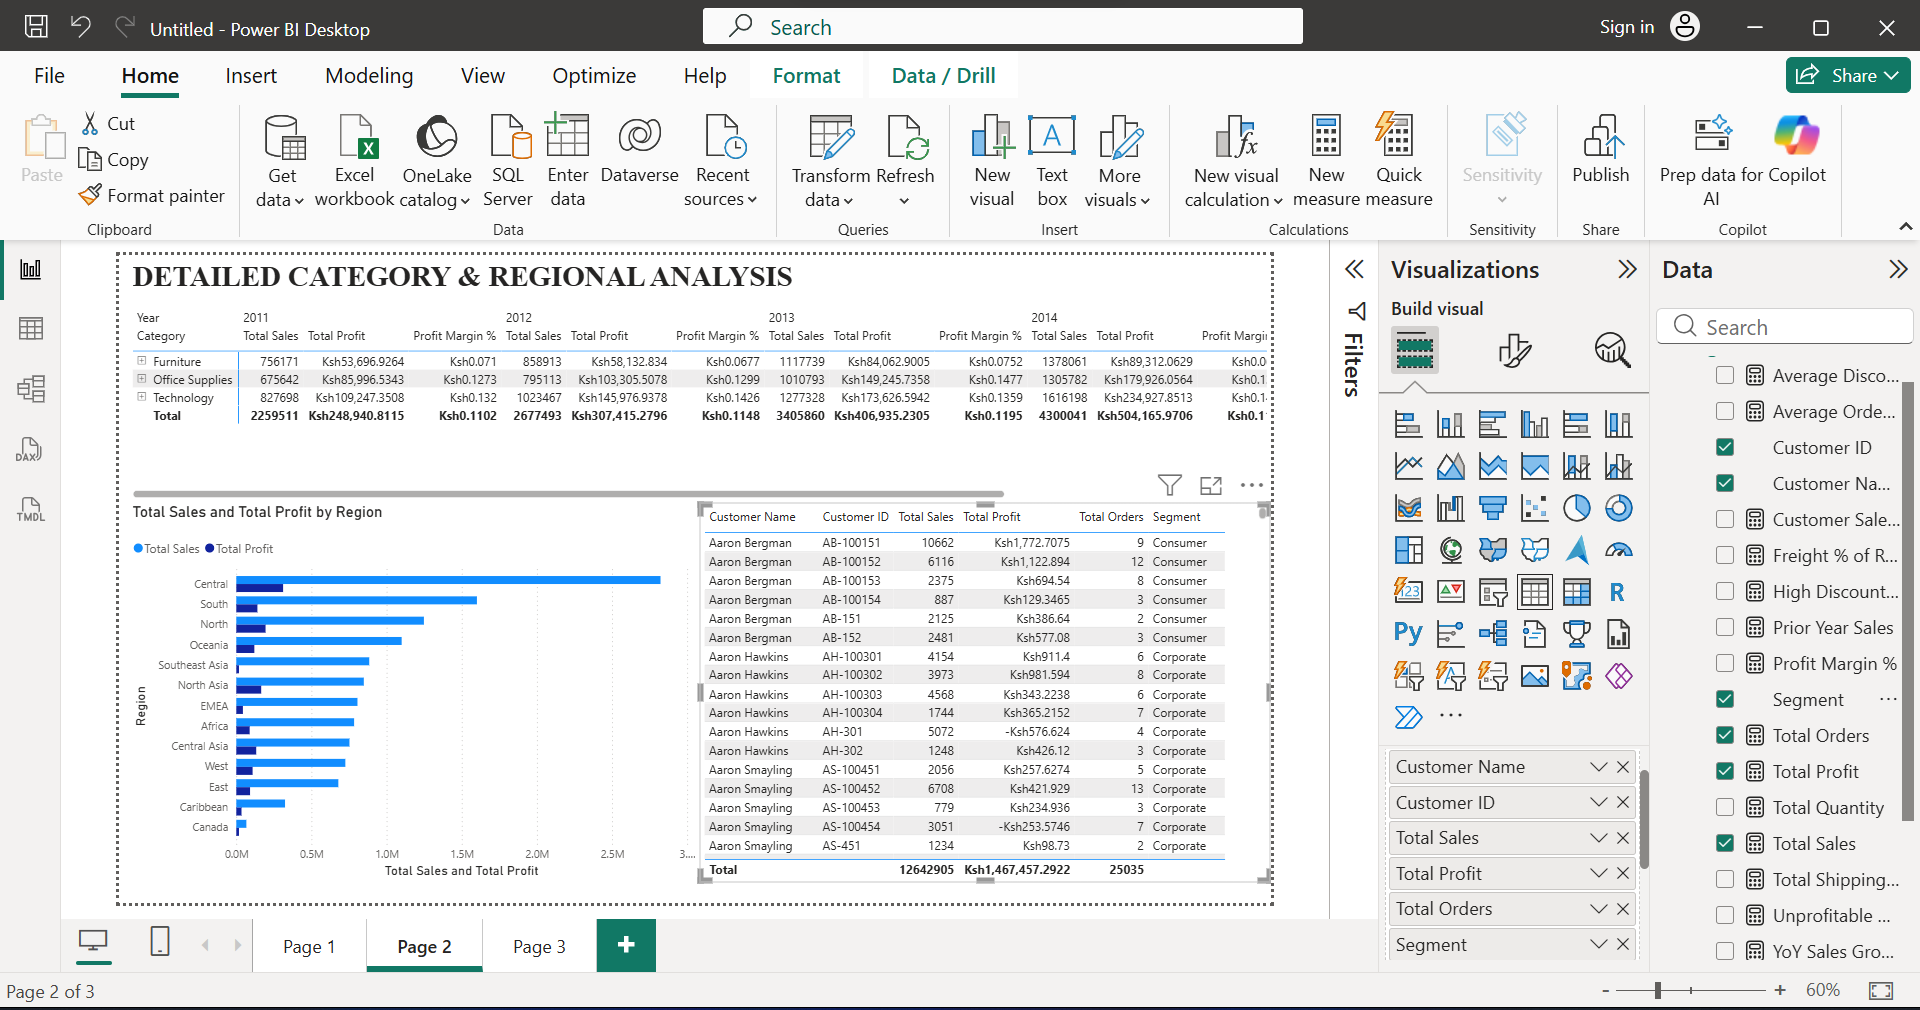

This screenshot's page, from the dashboard's own definition file:
{"tool":"powerbi","page":{"name":"Page 2","canvas":[1280,720],"ordinal":1},"visuals":[{"type":"textbox","box":[10,0,1270,53.3],"z":0},{"type":"pivotTable","fields":{"Rows":["DimProduct.Category","DimProduct.Sub Category"],"Columns":["DimDate.Year"],"Values":["DimCustomer.Total Sales","DimCustomer.Total Profit","DimCustomer.Profit Margin %"]},"box":[10,53.3,1270,221.7],"z":1},{"type":"clusteredBarChart","fields":{"Category":["DimLocation.Region"],"Y":["DimCustomer.Total Sales","DimCustomer.Total Profit"]},"box":[10,275,635,421.7],"z":2},{"type":"tableEx","fields":{"Values":["DimCustomer.Customer Name","DimCustomer.Customer ID","DimCustomer.Total Sales","DimCustomer.Total Profit","DimCustomer.Total Orders","DimCustomer.Segment"]},"box":[645,275,635,421.7],"z":3}]}

Visuals, with their boxes on the page's 1280x720 design canvas (x1, y1, x2, y2). These are canvas units, not pixel positions in the 1920x1010 screenshot, which may show the page scaled, cropped or inside an application window:
textbox: (left=10, top=0, right=1280, bottom=53)
pivotTable - DimProduct.Category x DimProduct.Sub Category: (left=10, top=53, right=1280, bottom=275)
clusteredBarChart - DimLocation.Region x DimCustomer.Total Sales: (left=10, top=275, right=645, bottom=697)
tableEx - DimCustomer.Customer Name x DimCustomer.Customer ID: (left=645, top=275, right=1280, bottom=697)
